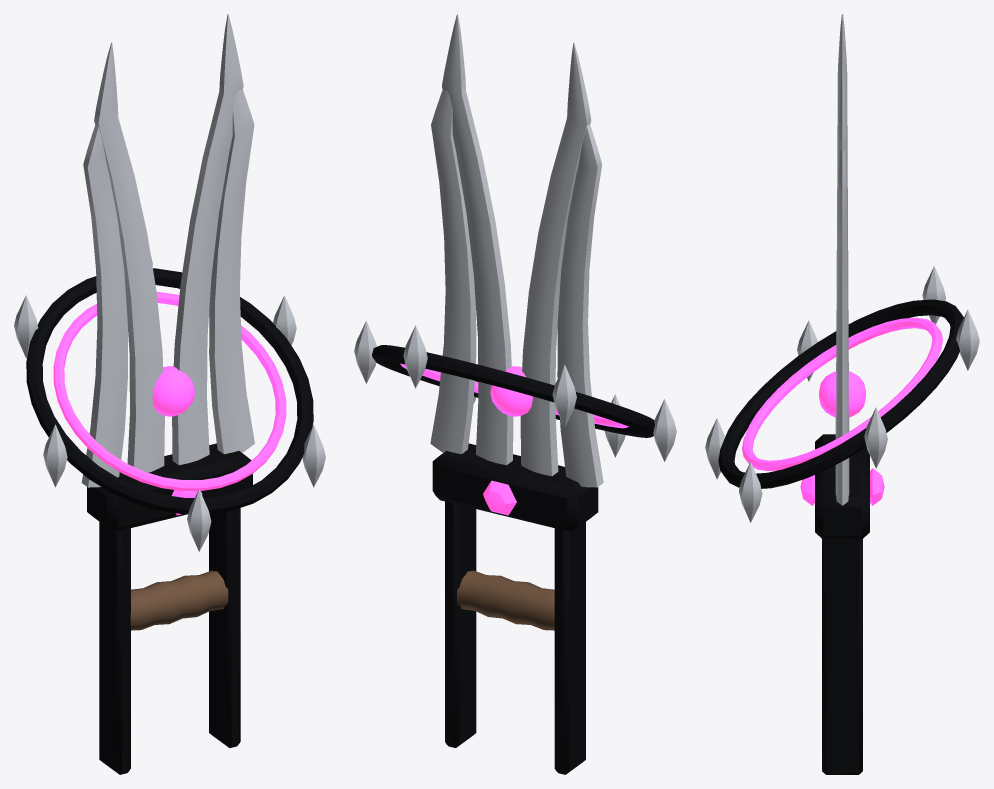
The model's file is esc_w_shadowblade_claw_5.glb.
3 views of the same model, side by side, from view 1: azimuth 30°, elevation 25°; view 2: azimuth 150°, elevation 25°; view 3: azimuth 270°, elevation 25° (orthographic). The views are drawn at different scales.
Parts seen in each view (by area): view 1: esc_w_shadowblade_claw_5; view 2: esc_w_shadowblade_claw_5; view 3: esc_w_shadowblade_claw_5.
Part boxes in pixels (x1,y1,x2,y2): esc_w_shadowblade_claw_5: (14, 14, 325, 774); esc_w_shadowblade_claw_5: (354, 14, 676, 774); esc_w_shadowblade_claw_5: (705, 14, 979, 774).
Size of the model in its own units: 0.2338 by 0.5694 by 0.2009.
